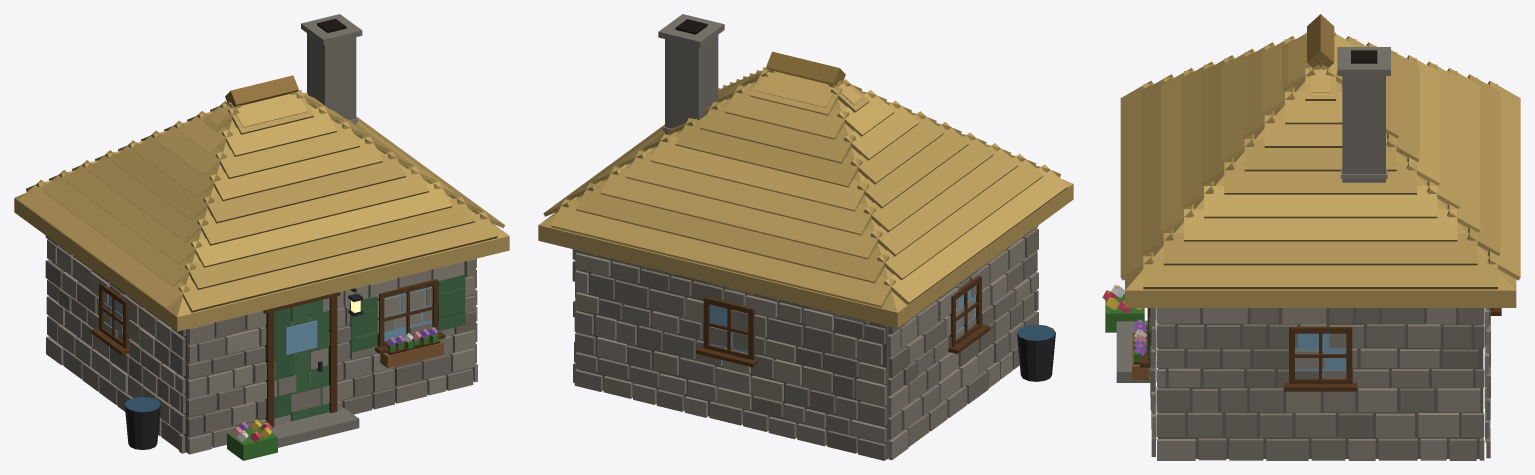
File: casa_vecino_piedra.glb
3 renders of one model, left to right at view 1: azimuth 30°, elevation 25°; view 2: azimuth 150°, elevation 25°; view 3: azimuth 270°, elevation 25°, orthographic. The views are drawn at different scales.
Visible parts, largest first — view 1: SM_CasaVecino_piedra; view 2: SM_CasaVecino_piedra; view 3: SM_CasaVecino_piedra.
Boxes of the visible parts, x1,y1,x2,y2 form: SM_CasaVecino_piedra: (14,14,509,460); SM_CasaVecino_piedra: (538,14,1073,460); SM_CasaVecino_piedra: (1102,14,1520,460).
Bounding box in the file's own units: 5.6 × 4.71 × 4.81.
